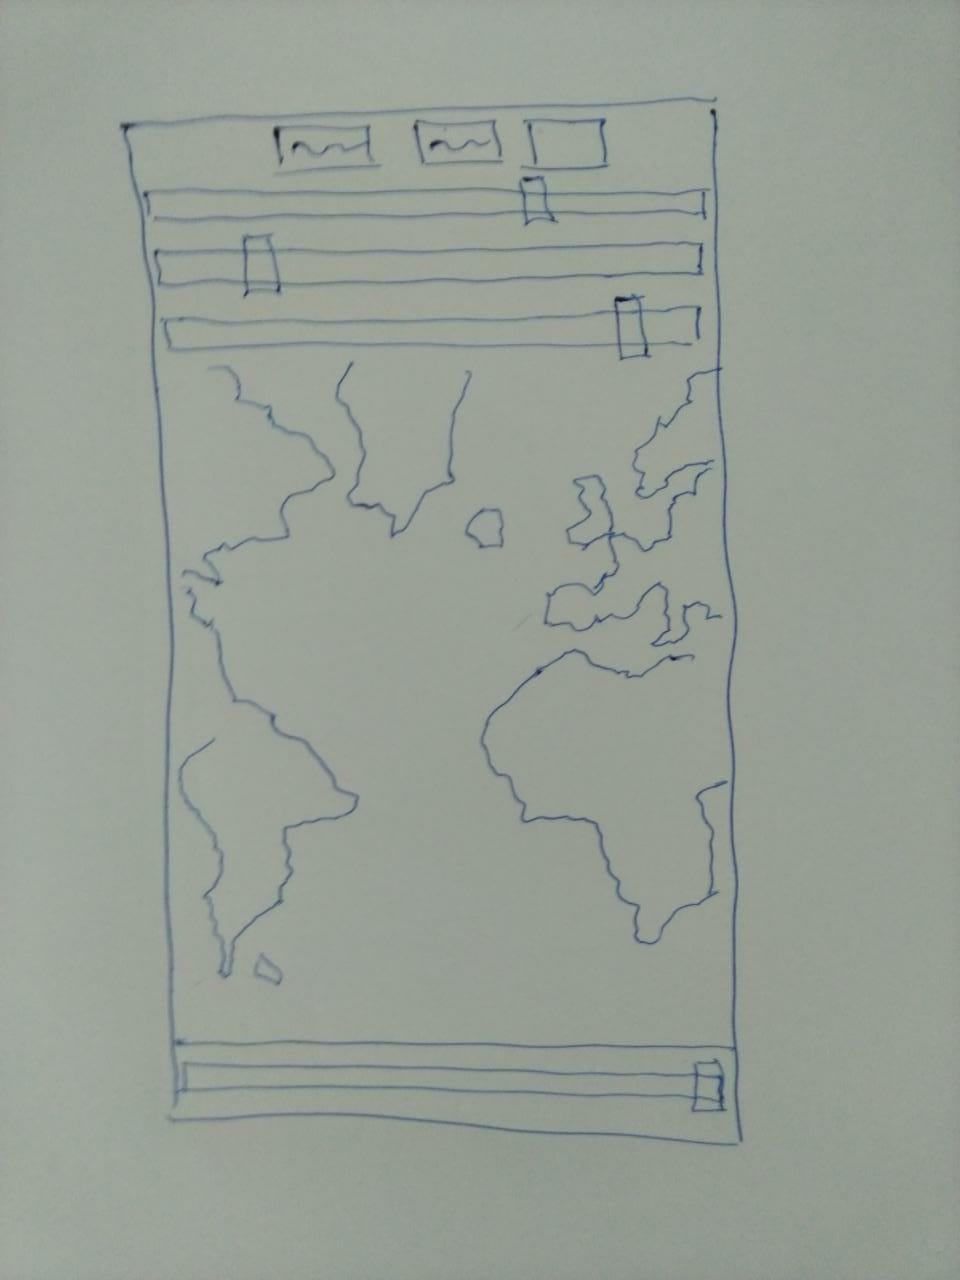Button: (271, 122, 380, 175), (412, 119, 503, 166)
Map: (159, 357, 736, 995)
Screen: (121, 96, 746, 1148)
Slider: (163, 294, 702, 361), (153, 235, 704, 297), (145, 174, 710, 228), (182, 1058, 727, 1113)
TextBox: (520, 117, 611, 169)
